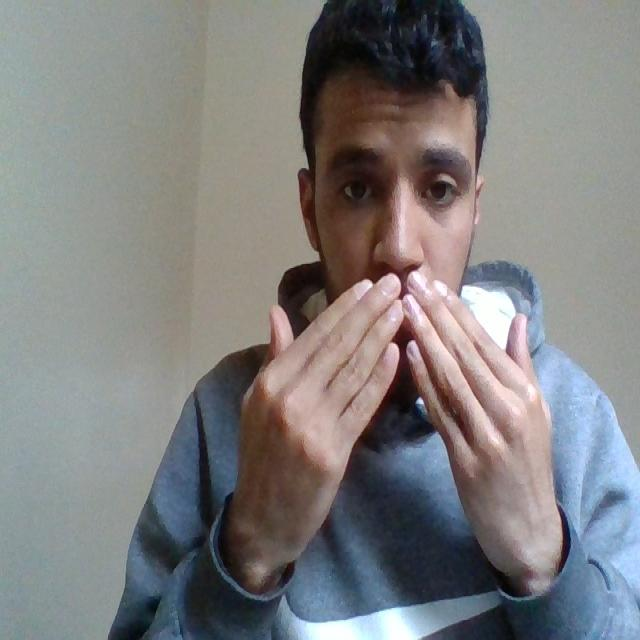Thanks: (223, 252, 584, 576)
